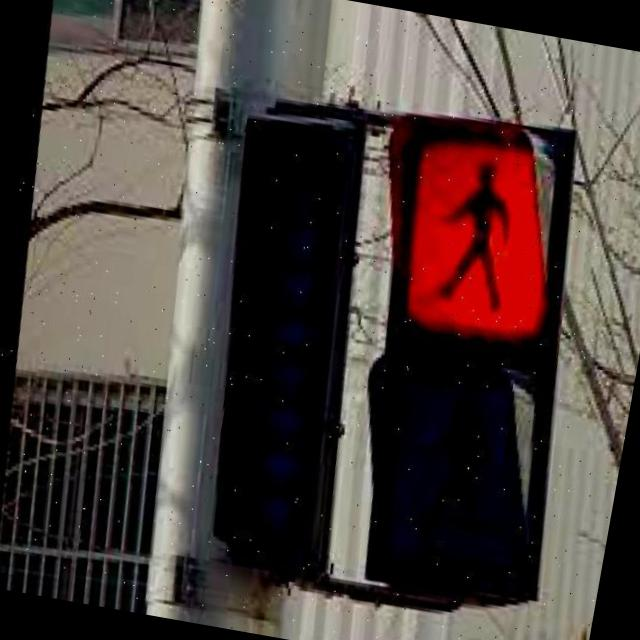red_light: (398, 142, 550, 333)
